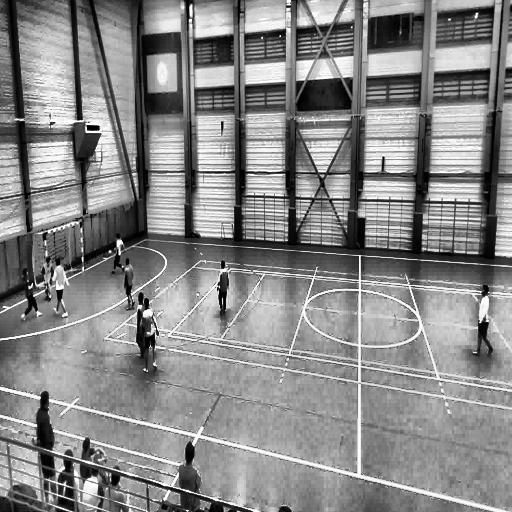ball: (108, 245, 113, 259)
player: (34, 394, 56, 505), (470, 282, 494, 359), (138, 298, 160, 375), (178, 440, 200, 509), (134, 289, 150, 361), (53, 260, 69, 317), (22, 271, 41, 318), (216, 260, 230, 318), (41, 254, 55, 304), (124, 257, 134, 310), (111, 234, 124, 273)
